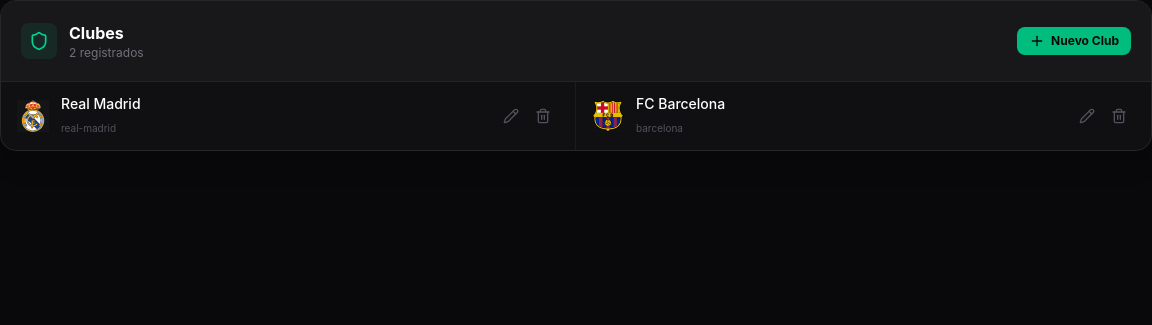
Scenario: TeamManager › shows new club form when button clicked
Click the button "Nuevo Club" at (1074, 41), box [1017,27,1131,55]
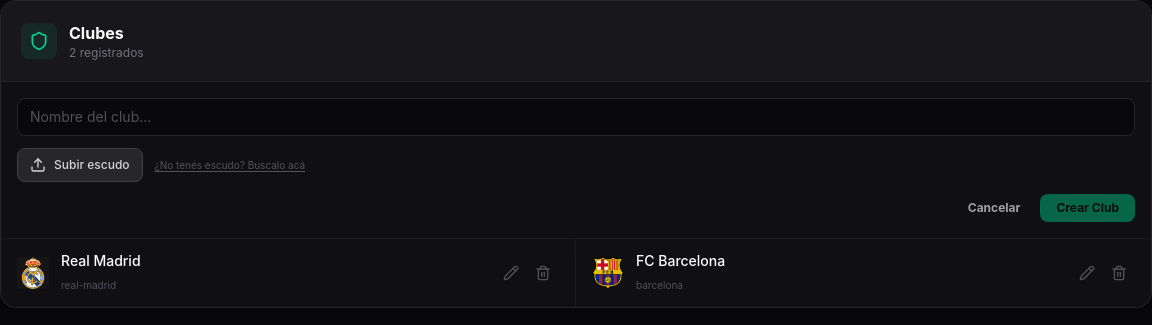
Now the field with placeholder "Nombre del club..." is shown, box [17,98,1135,136]
Now the button "Subir escudo" is shown, box [17,148,143,182]
